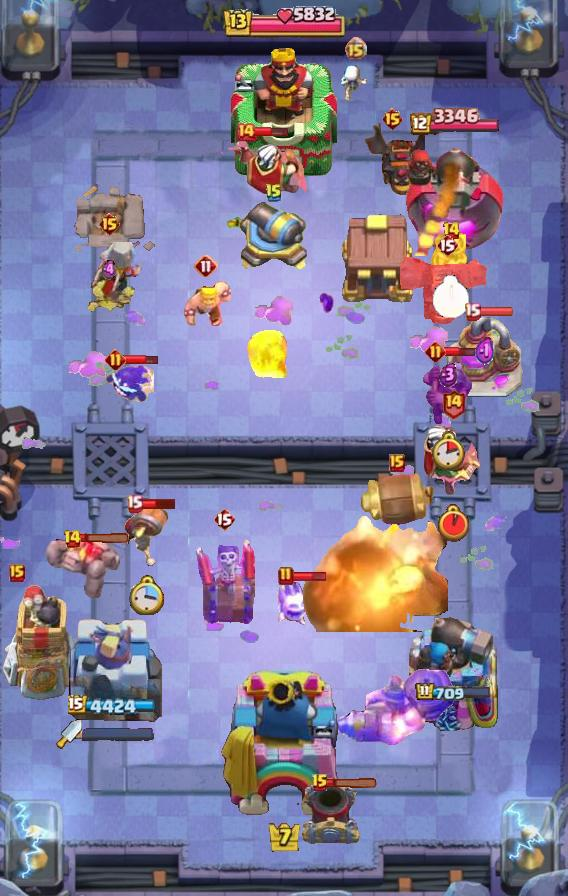archer: (174, 280, 238, 326)
archer-evolution: (400, 257, 494, 327), (359, 119, 425, 197)
bandit: (421, 355, 475, 429)
bar: (66, 611, 162, 731)
bomb: (336, 211, 416, 305)
clock: (221, 3, 347, 43)
electro-spirit: (475, 336, 495, 367), (438, 362, 457, 387), (102, 259, 116, 281)
elixir: (432, 275, 470, 319), (129, 575, 165, 615), (431, 431, 465, 471), (439, 504, 469, 542)
emote: (327, 778, 379, 790), (79, 532, 131, 543), (139, 497, 177, 511), (123, 354, 159, 367), (444, 345, 479, 358), (253, 126, 289, 137), (478, 306, 514, 317), (293, 570, 328, 581)
heal-spirit: (339, 65, 371, 101)
king-tower: (219, 670, 349, 826), (231, 43, 337, 181)
king-tower-bar: (82, 727, 154, 741)
knight: (123, 499, 171, 569)
lumberjack: (430, 230, 472, 278)
mirror: (276, 577, 316, 627)
musketeer: (300, 780, 362, 848)
pekka: (446, 317, 524, 399)
poison: (68, 240, 150, 314)
royal-recruit: (238, 191, 310, 275)
selected: (407, 108, 499, 137), (68, 694, 160, 717), (416, 681, 493, 702)
skeleton-king: (214, 131, 310, 199), (423, 424, 483, 500)
skeleton-king-bar: (193, 535, 255, 625)
spear-goblin: (104, 362, 154, 404)
text: (442, 389, 467, 420), (194, 254, 218, 278), (381, 107, 404, 131), (99, 212, 122, 236), (345, 36, 368, 59), (436, 233, 458, 257), (213, 507, 235, 531), (426, 341, 447, 363), (105, 350, 126, 371), (236, 122, 256, 142), (443, 221, 462, 241), (63, 529, 82, 549), (265, 183, 283, 203), (311, 773, 329, 793), (463, 302, 481, 321), (278, 566, 294, 586), (125, 495, 142, 513), (389, 454, 405, 472), (9, 564, 25, 582)
the-log: (357, 473, 437, 527)
tower-bar: (404, 138, 505, 256), (407, 611, 499, 731)
valkyrie: (288, 504, 448, 632), (245, 324, 291, 382)
valkyrie-evolution: (46, 536, 120, 598)
wizard: (332, 668, 456, 746)
zappy: (0, 583, 84, 705)
